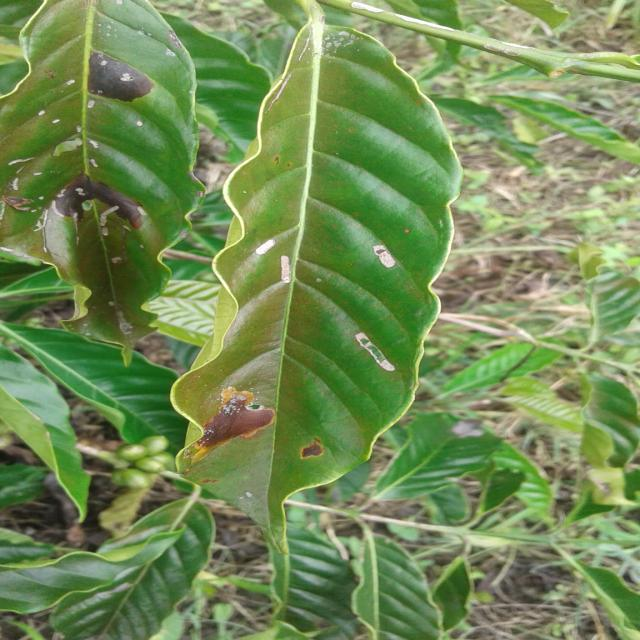Plaga-AranaRoja: (168, 28, 463, 616)
